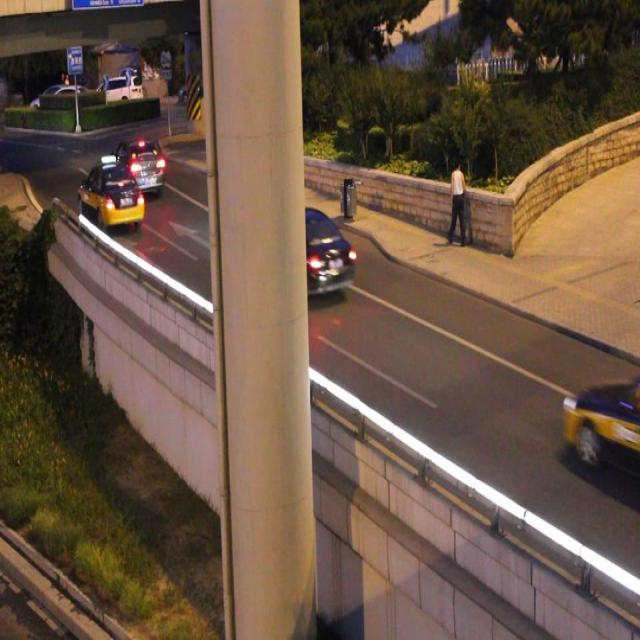car: (259, 209, 353, 299), (562, 374, 640, 471), (79, 164, 143, 227), (112, 142, 163, 192)
